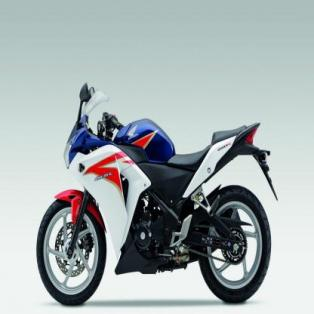Motocicleta: (32, 82, 281, 307)
